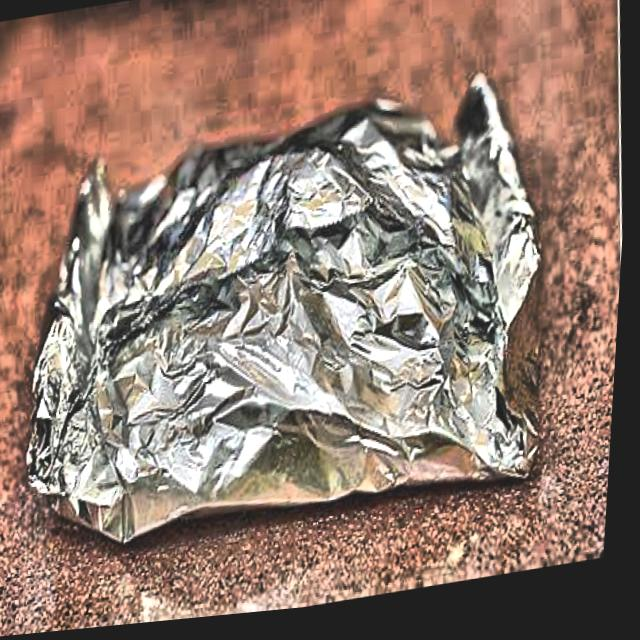Foil: (0, 42, 598, 579)
